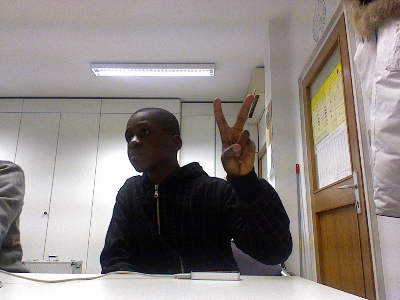剪刀: (211, 93, 255, 178)
